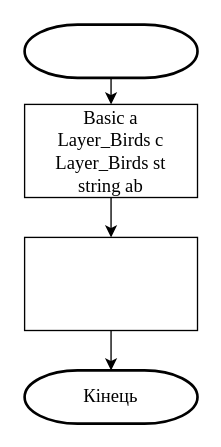
This 221x447 diagram has some shape labels left out. Each missing label, with the centre of its shape:
st.SetName("CAT!") Exotic_birds st2 st2.SetName("KOT2") ab = st2.toString(): the point at 110,283
Початок: the point at 110,50
